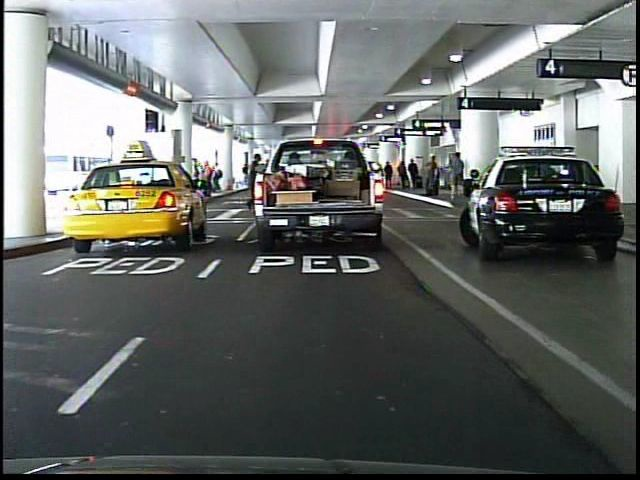person: (303, 145, 327, 205), (240, 152, 260, 210), (235, 157, 253, 193)
